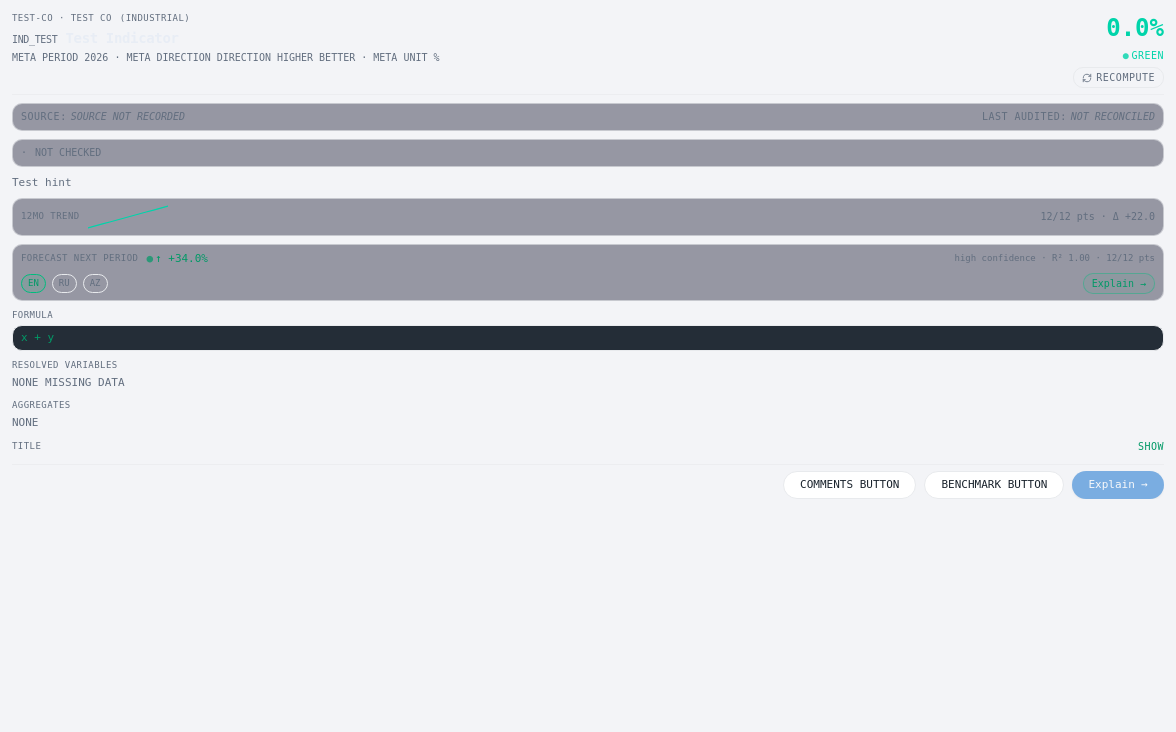
Scenario: IndicatorDetail forecast explain panel (Phase C2 v2) › hides horizon strip when response omits horizon or has only 1 step
What coordinates should you click on to do the following:
click the button with test id "forecast-explain-button"
I would click on:
 (1119, 284)
Its box is [1083,273,1155,294].
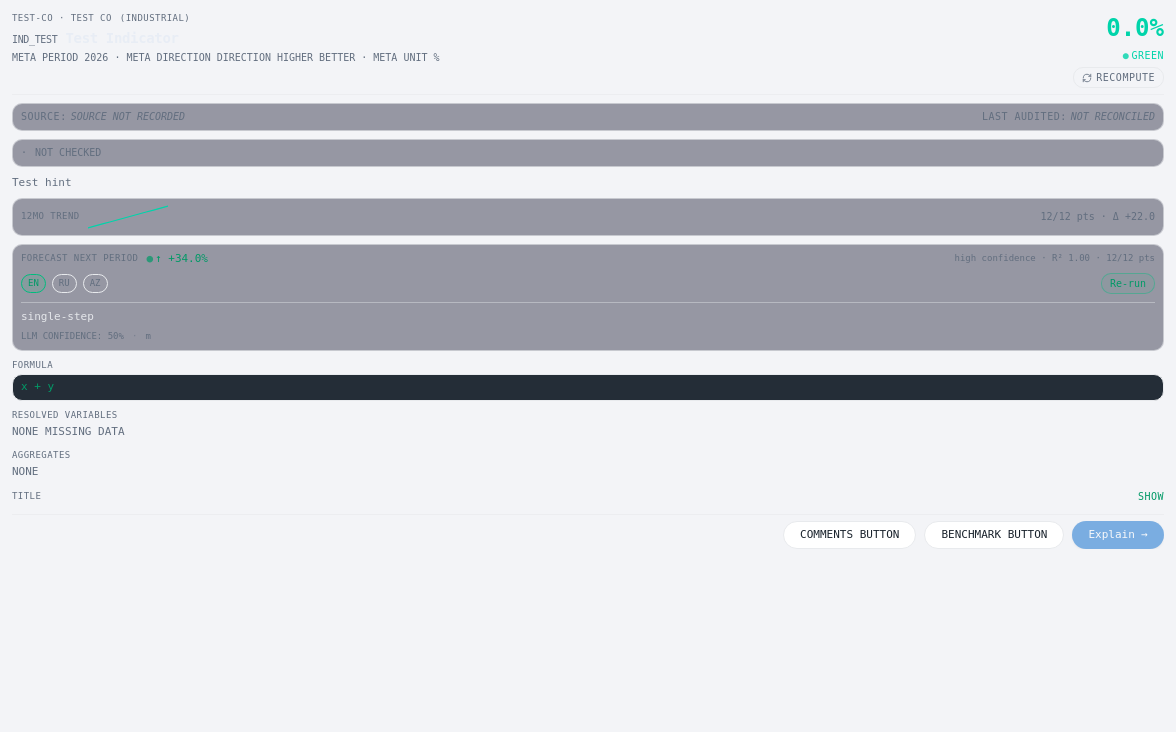
Check: the element with test id "forecast-narrative" is shown, box [21,302,1155,344]
